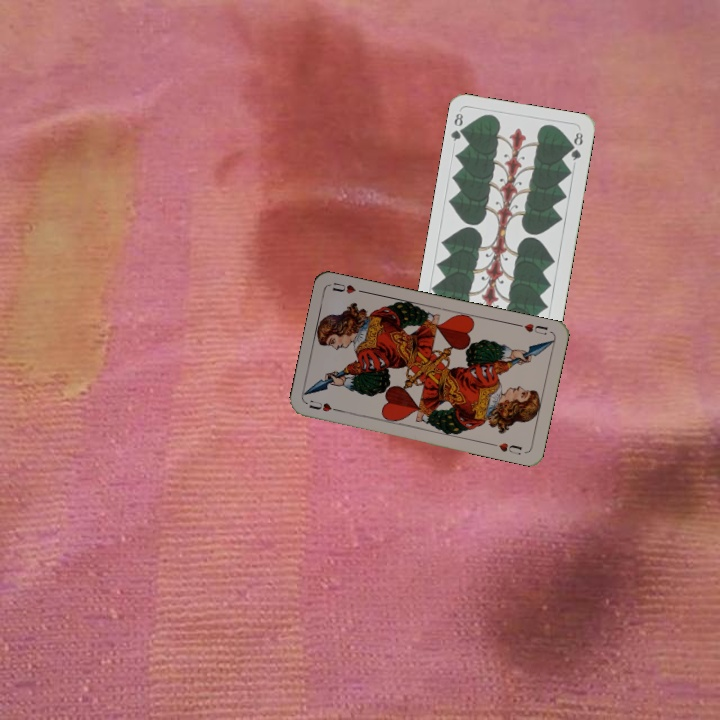G8: (447, 109, 469, 144)
HU: (513, 319, 551, 337), (305, 396, 343, 414)
